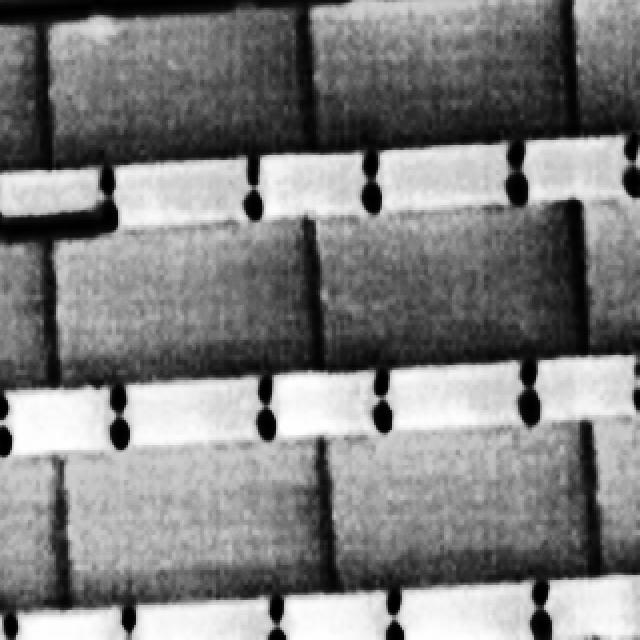Hotspots: (69, 11, 130, 56)
PV-modules: (310, 194, 592, 367), (326, 416, 600, 591), (51, 210, 319, 386), (61, 433, 329, 609), (35, 0, 318, 166), (310, 0, 578, 147), (0, 457, 69, 616), (0, 237, 58, 391), (0, 14, 45, 170)
